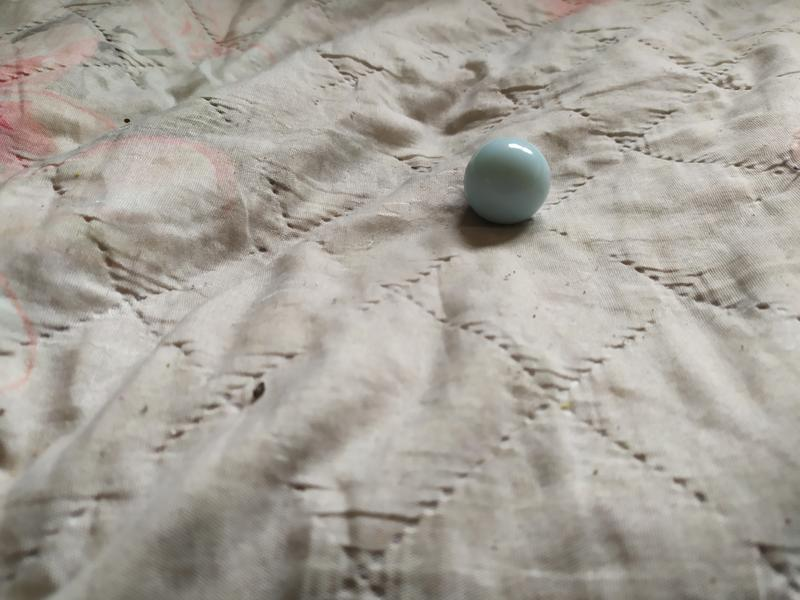Warning: (461, 135, 555, 229)
